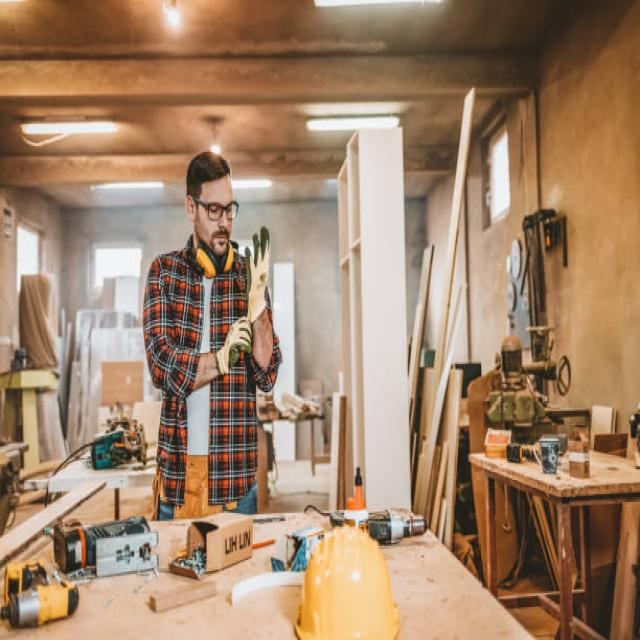gloves: (245, 226, 270, 323), (215, 317, 251, 375)
